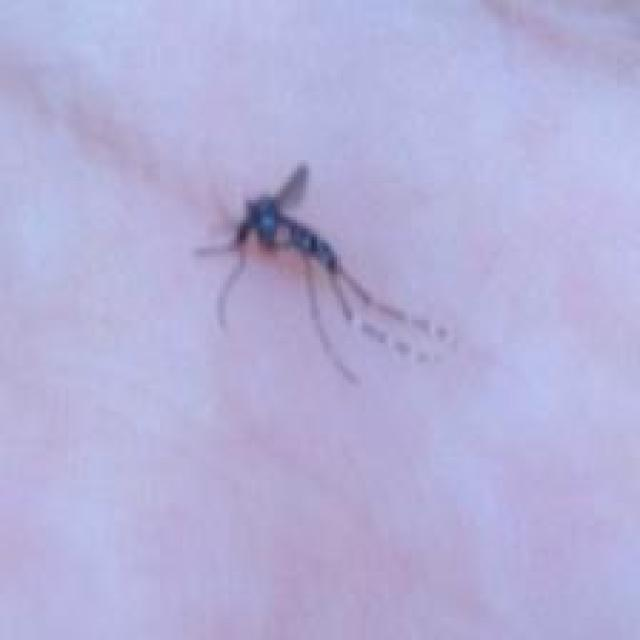Aedes albopictus: (193, 160, 461, 386)
